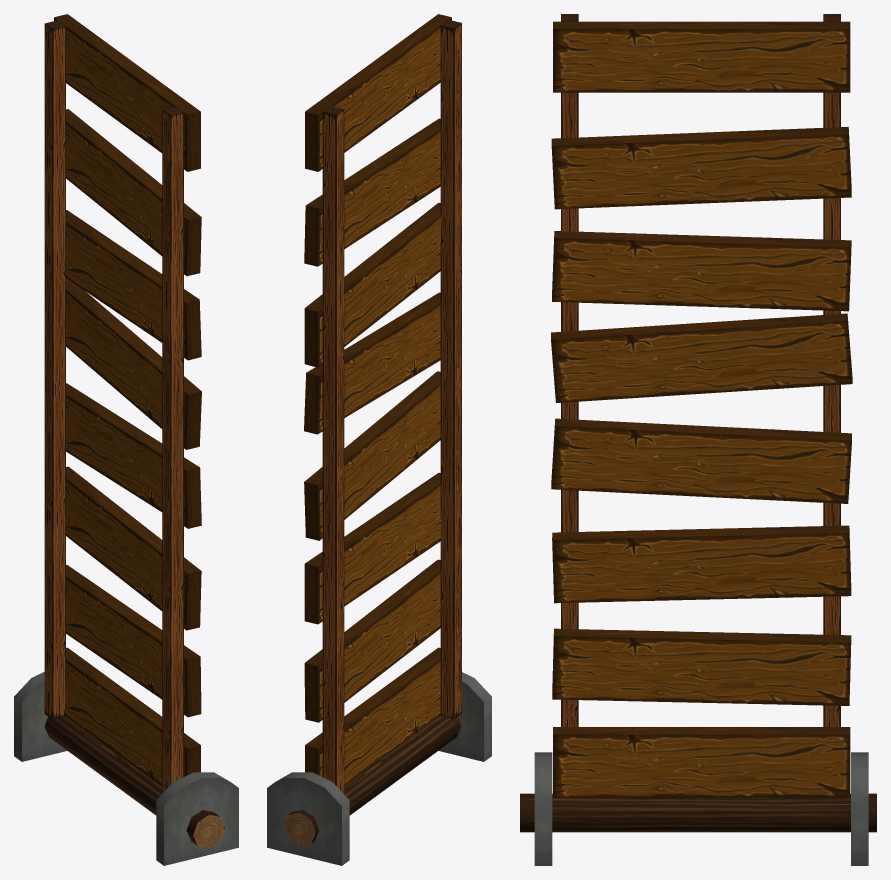
The model's file is bridge.fbx.
3 views of the same model, side by side, from view 1: azimuth 30°, elevation 25°; view 2: azimuth 150°, elevation 25°; view 3: azimuth 270°, elevation 25° (orthographic). The views are drawn at different scales.
Visible parts, largest first — view 1: bridge, base; view 2: bridge, base; view 3: bridge, base.
Boxes of the visible parts, x1,y1,x2,y2 form: bridge: [44, 14, 224, 847]; base: [14, 672, 238, 865]; bridge: [284, 14, 461, 845]; base: [267, 672, 491, 865]; bridge: [520, 14, 876, 832]; base: [534, 752, 868, 865].
Bounding box in the file's own units: 88.88 × 837 × 330.
1 material, 1 textured.
